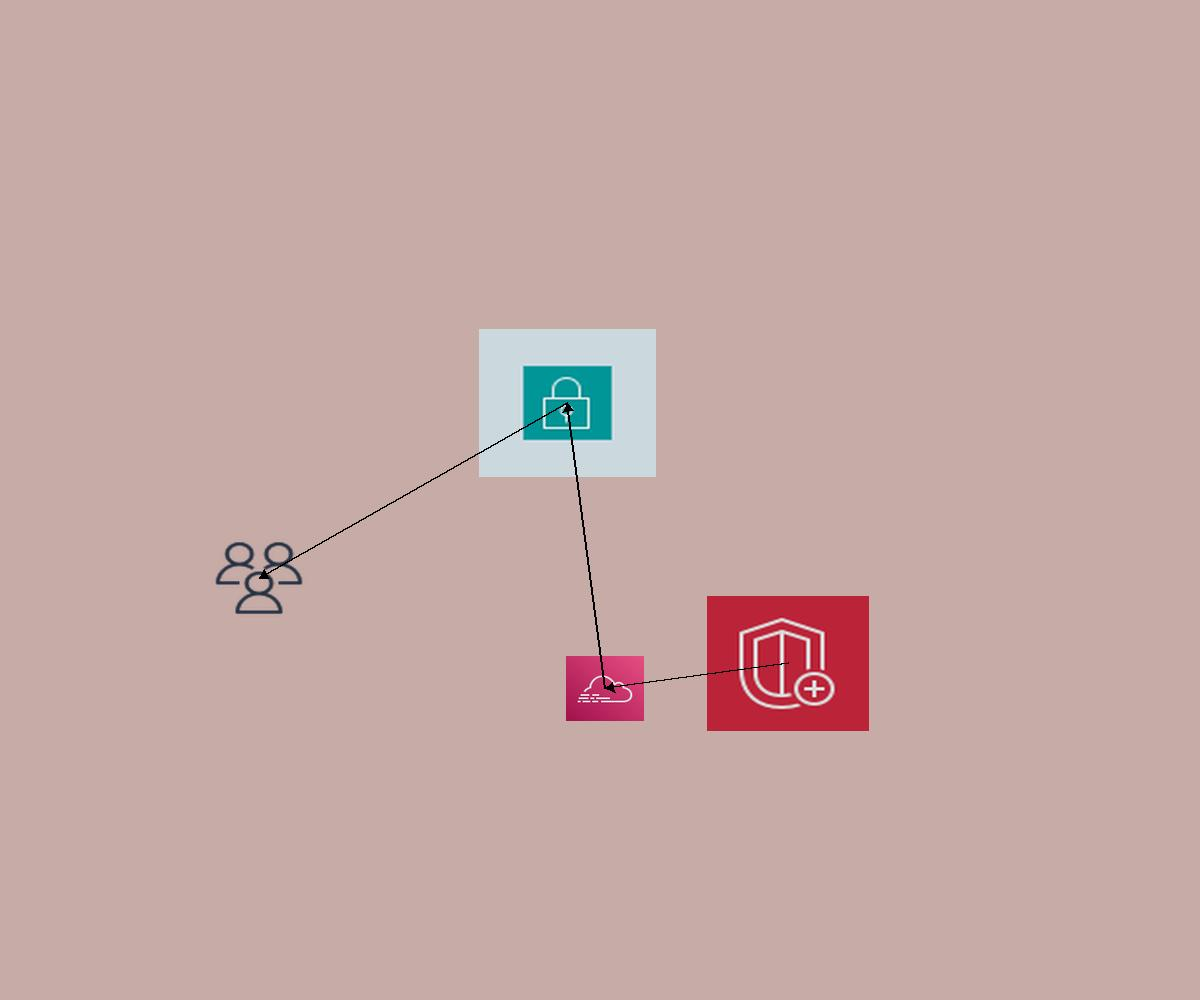AWS-CloudTrail: (566, 656, 644, 721)
AWS-Private-subnet: (479, 329, 656, 477)
AWS-Res_Users: (212, 539, 306, 617)
AWS-Shield: (707, 596, 869, 731)
